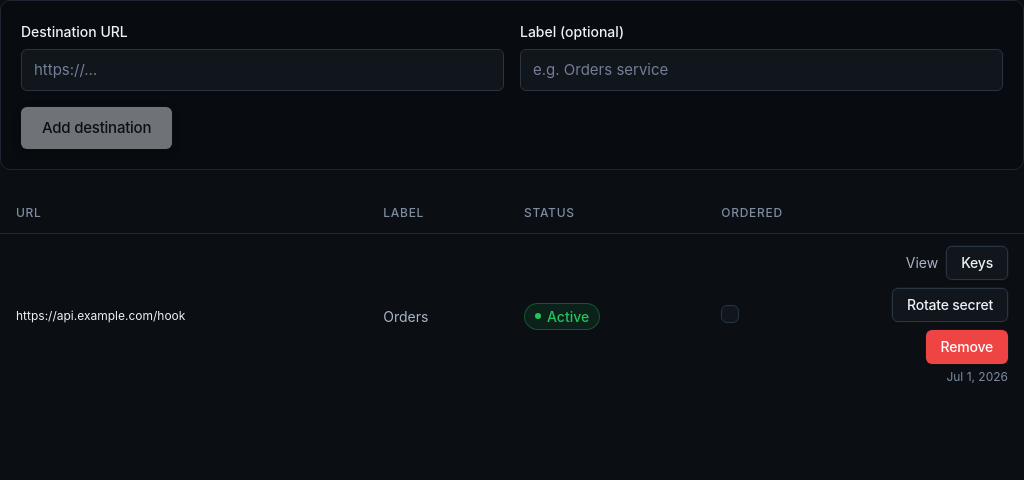
ReplayDestinationsManager › toggles ordered via the action and reverts on failure
Click the checkbox named "strict ordering".
click(730, 314)  # box [721,305,739,323]
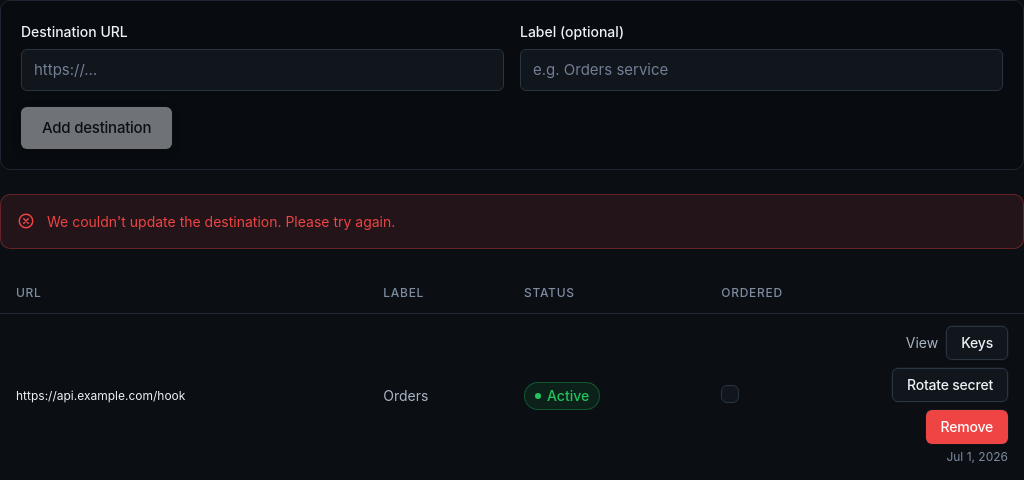
Expected: the checkbox named "strict ordering" is not checked, [721,385,739,403]
Expected: the text "We couldn't update the destination. Please try again." is shown, [47,213,395,230]
